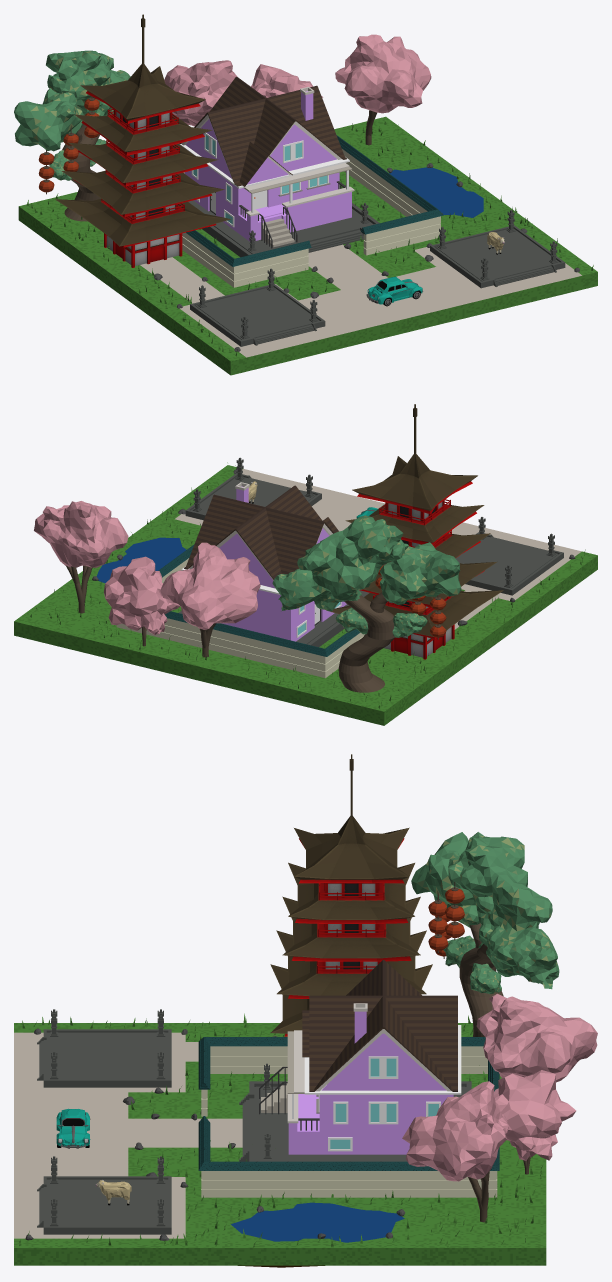
The picture shows the model from 3 angles, top to bottom: view 1: azimuth 30°, elevation 25°; view 2: azimuth 150°, elevation 25°; view 3: azimuth 270°, elevation 25°; orthographic projection. The views are drawn at different scales.
Visible parts, largest first — view 1: Cube.005, Cube.391, VEHICLES_VOLKSWAGEN; view 2: Cube.005, Cube.391; view 3: Cube.005, Cube.391, VEHICLES_VOLKSWAGEN.
Part boxes in pixels (left/top/right/bottom): Cube.005: left=14, top=14, right=597, bottom=375; Cube.391: left=179, top=76, right=354, bottom=248; VEHICLES_VOLKSWAGEN: left=366, top=276, right=423, bottom=306; Cube.005: left=14, top=404, right=597, bottom=725; Cube.391: left=181, top=482, right=346, bottom=641; Cube.005: left=14, top=754, right=597, bottom=1265; Cube.391: left=259, top=960, right=461, bottom=1154; VEHICLES_VOLKSWAGEN: left=56, top=1108, right=90, bottom=1148.
Size of the model in its own units: 4528 by 2756 by 4389.
Materials: 40 (5 with a texture image).
